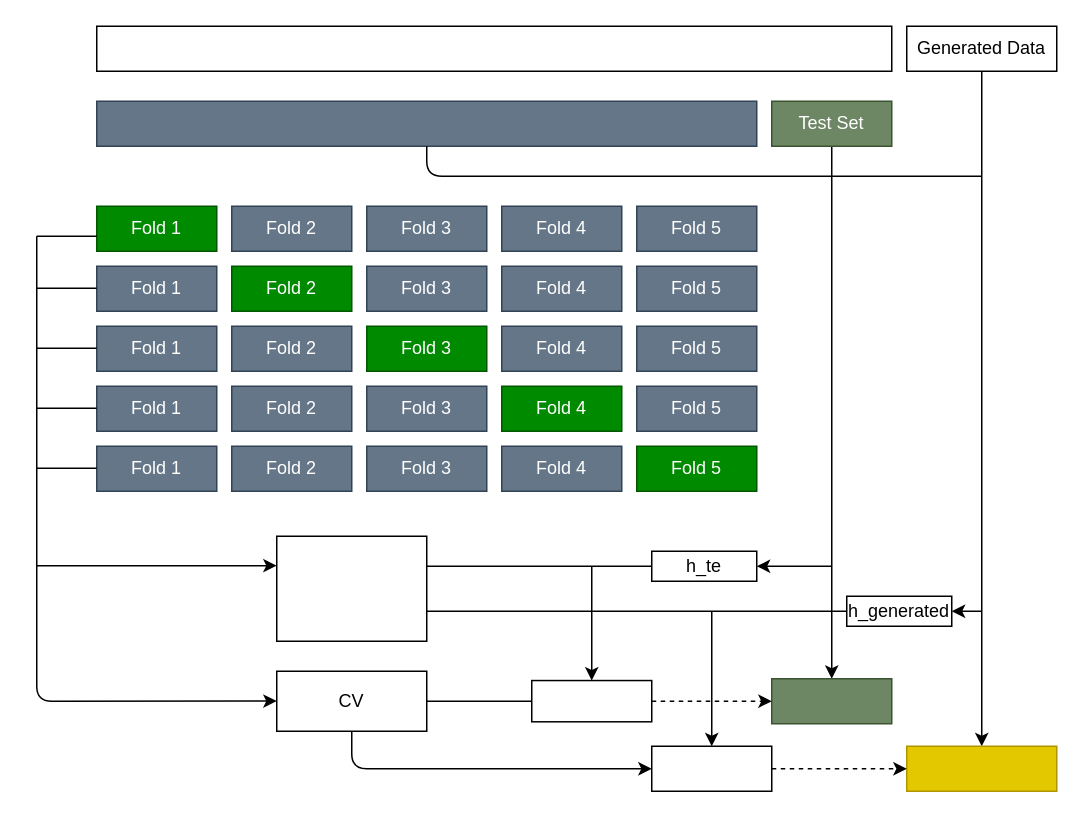
Image size: 1083x818. Some labels were removed from this diagram. The shapes that lost their labels are listed below. From the top down, each one's centre as x and y in pixels, then its label:
At [493,48]: "1000 Genomes Project".
At [426,123]: "Training Set".
At [351,588]: "H_cv".
At [591,700]: "+ w_test".
At [831,700]: "MSE test".
At [711,768]: "+ w_gen".
At [981,768]: "Gold Standard".
